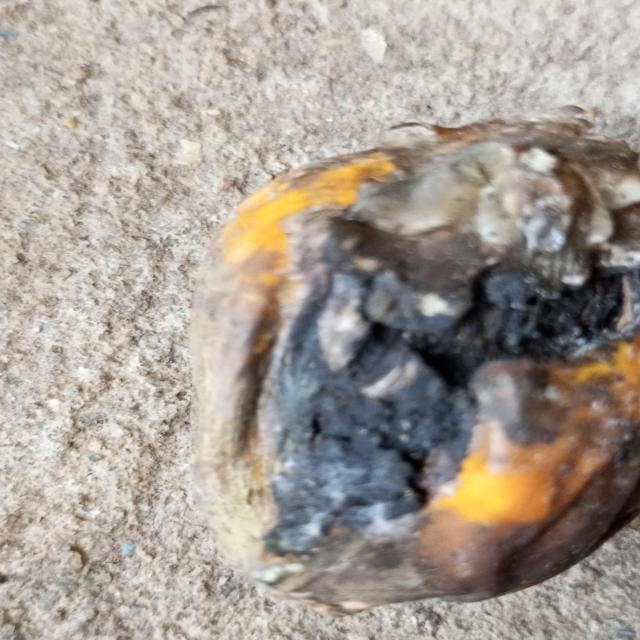damaged: (188, 106, 640, 617)
